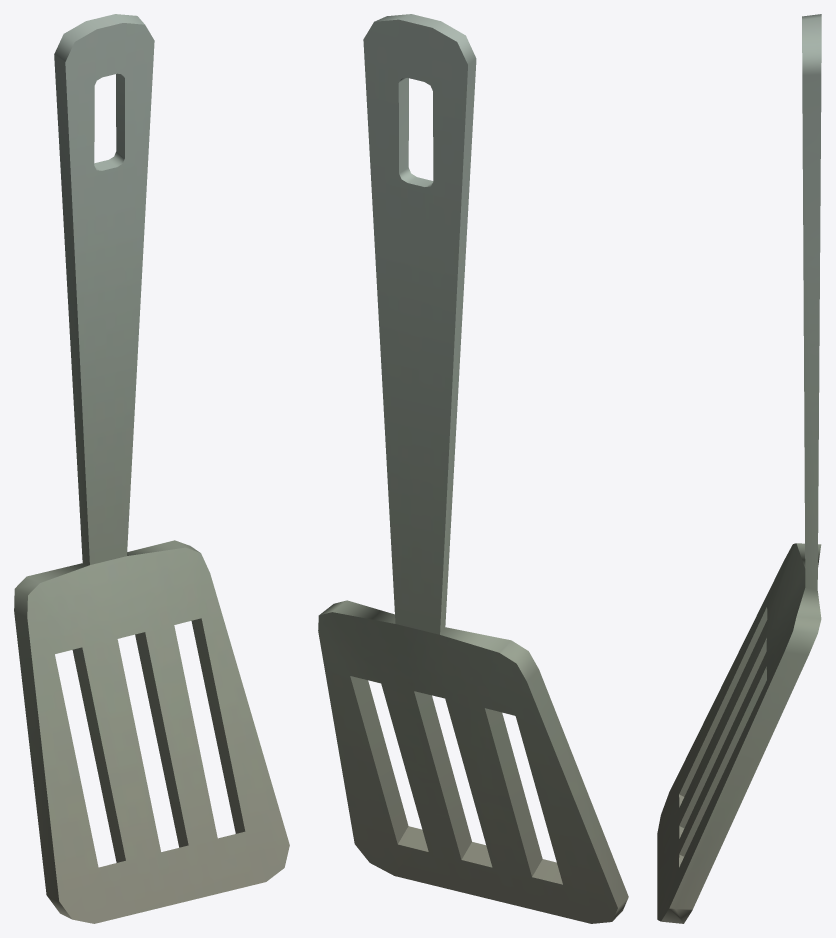
File: SM_Spatula_01.fbx
3 renders of one model, left to right at view 1: azimuth 30°, elevation 25°; view 2: azimuth 150°, elevation 25°; view 3: azimuth 270°, elevation 25°, orthographic. The views are drawn at different scales.
Visible parts, largest first — view 1: SM_Spatula_01; view 2: SM_Spatula_01; view 3: SM_Spatula_01.
Part boxes in pixels (x1,y1,x2,y2): SM_Spatula_01: (14, 14, 289, 923); SM_Spatula_01: (318, 14, 628, 923); SM_Spatula_01: (657, 14, 821, 923).
Size of the model in its own units: 7.15 by 24.22 by 4.23.
